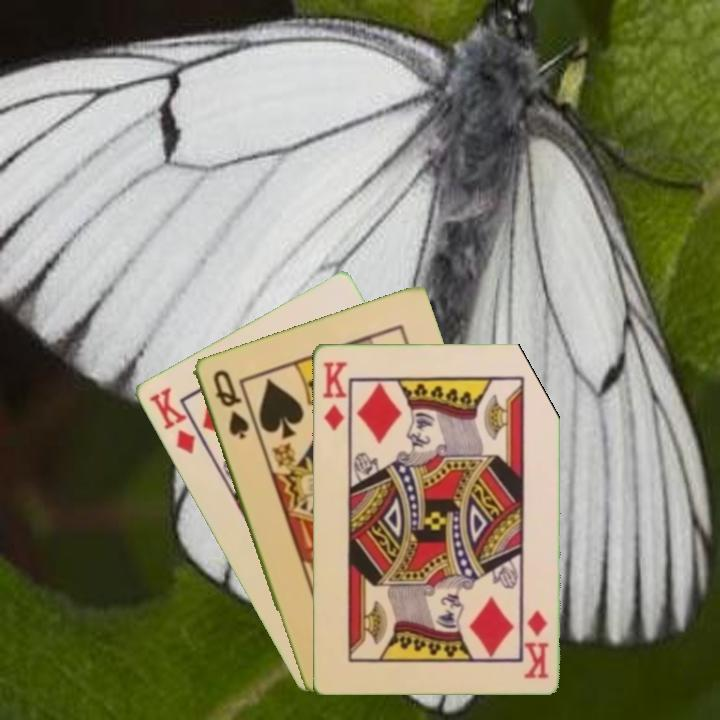Kd: (145, 383, 198, 457), (319, 357, 350, 433), (521, 606, 551, 681)
Qs: (208, 366, 251, 442)
